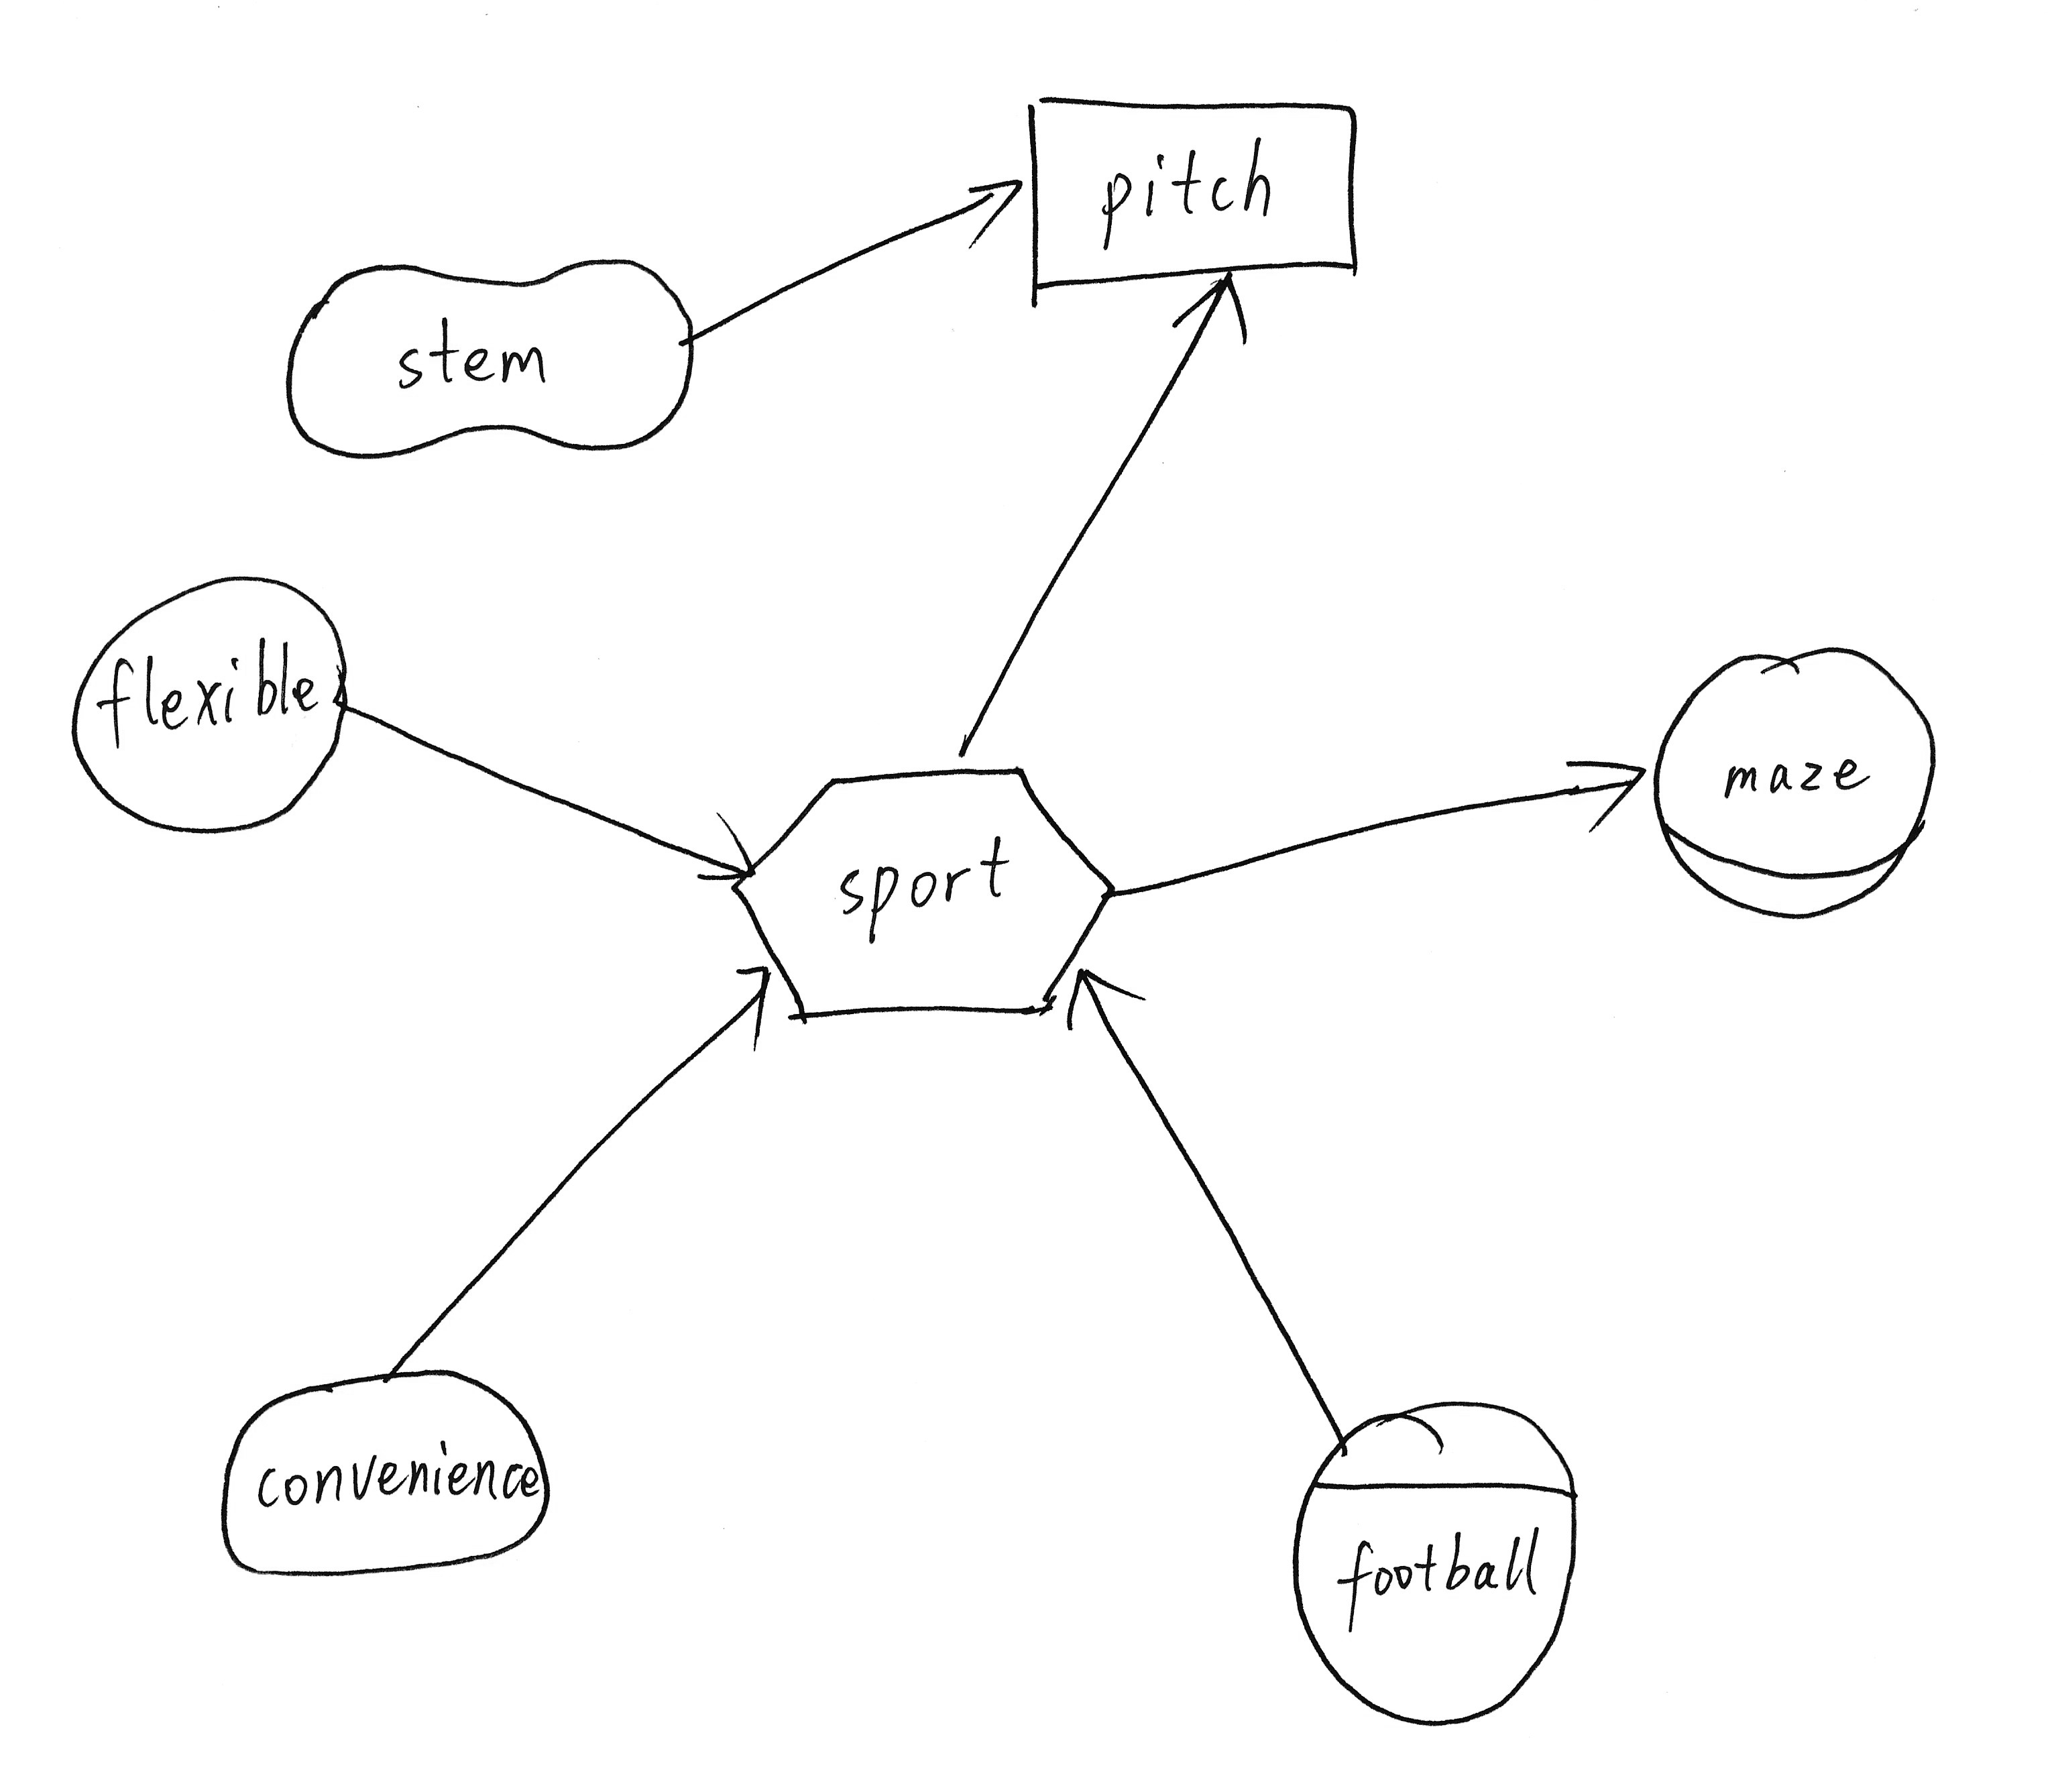actor: (52, 559, 364, 848)
agent: (1276, 1383, 1594, 1738)
arrow: (1054, 962, 1154, 1045), (1170, 262, 1259, 350), (1561, 750, 1652, 832), (687, 801, 766, 893), (729, 951, 785, 1061), (958, 170, 1035, 248)
goal: (208, 1357, 561, 1591)
quality: (271, 243, 712, 470)
resource: (1011, 79, 1383, 311)
role: (1636, 640, 1946, 934)
task: (720, 752, 1131, 1042)
